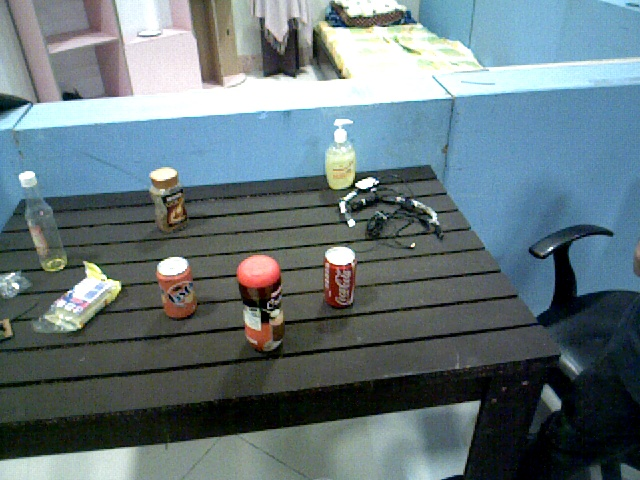coca: (326, 247, 356, 310)
coffee: (151, 169, 188, 234)
cream: (238, 257, 284, 353)
fanta: (157, 259, 196, 321)
